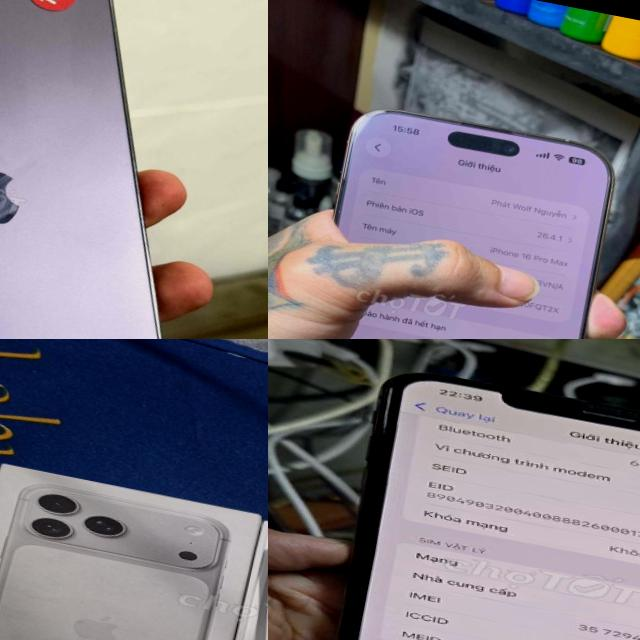gen_14: (0, 0, 263, 339)
gen_16: (335, 111, 613, 339)
gen_x_xs: (285, 352, 640, 640)
